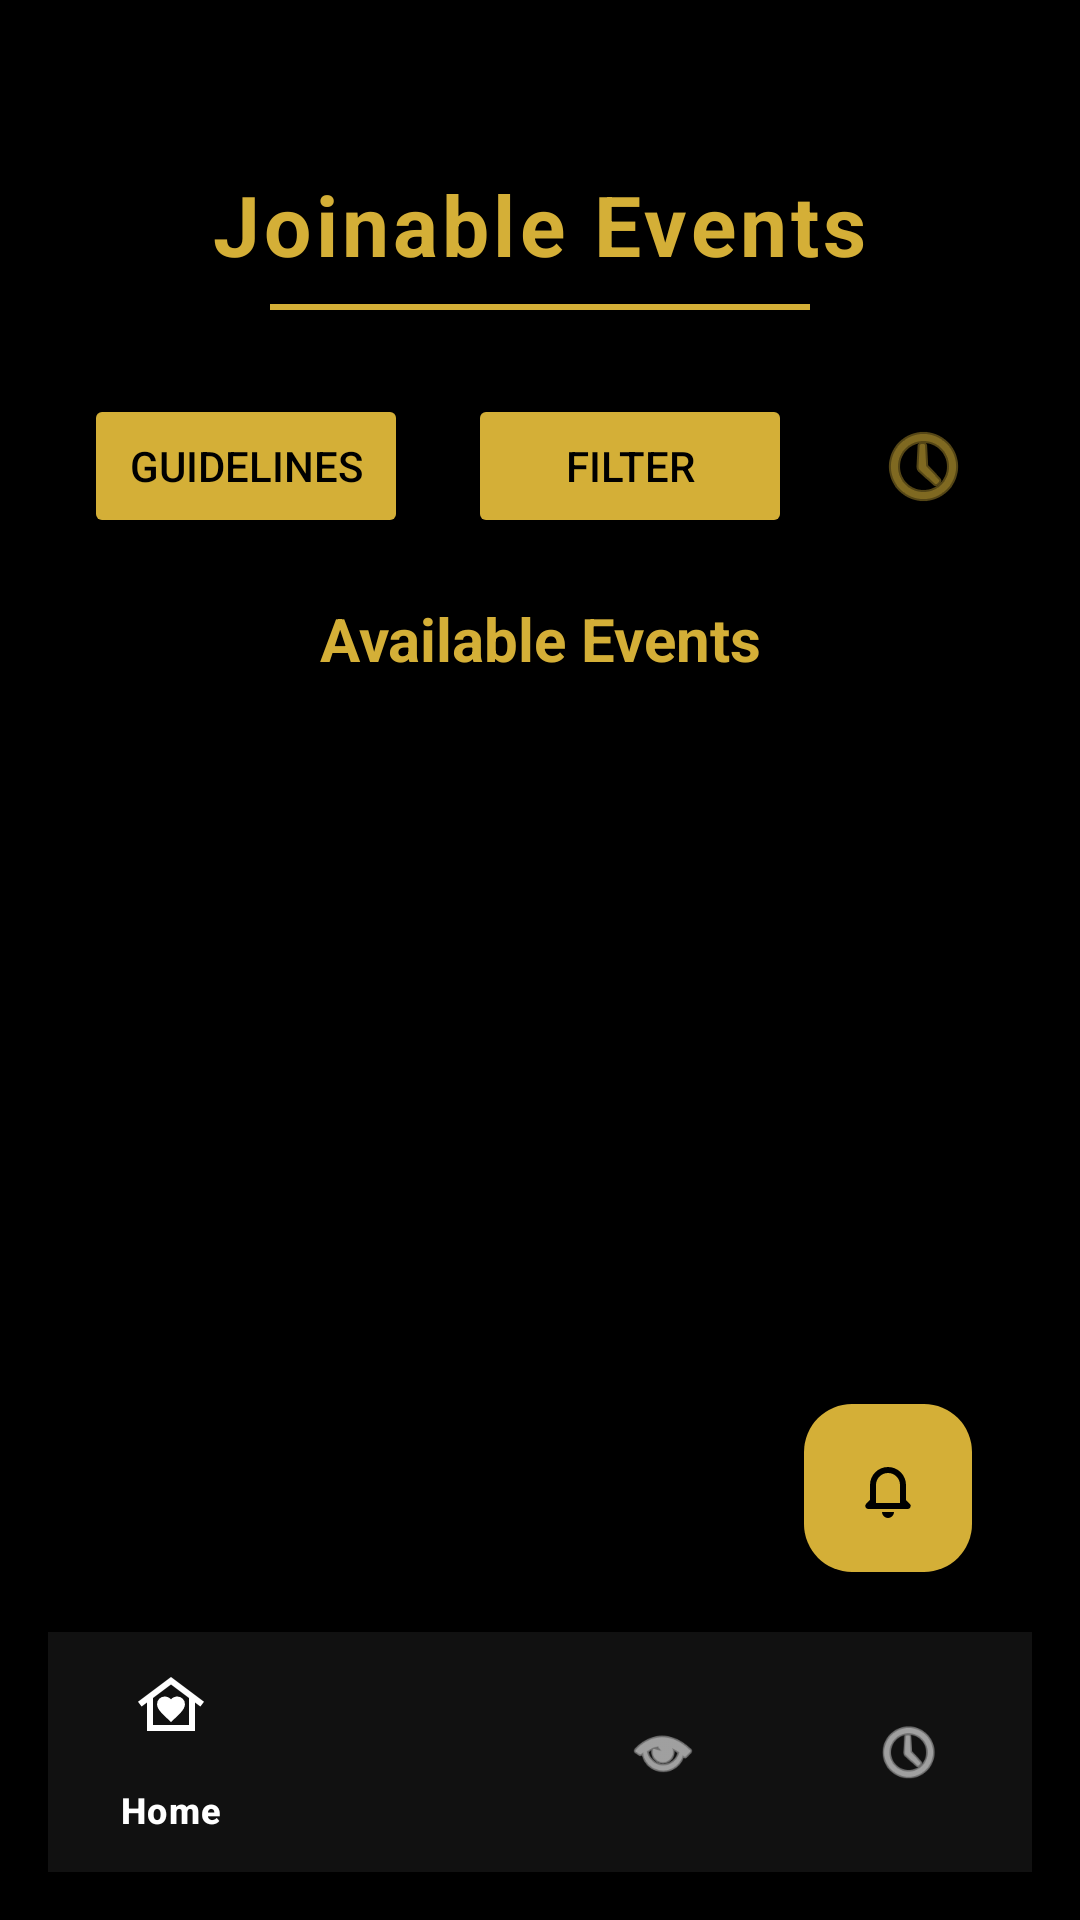

Screen size 1080*1920. Icon name, then its box in pixels as rect(x1, y1, x2, y2):
notifications: rect(804, 1404, 972, 1572)
recent history: rect(889, 432, 958, 501)
